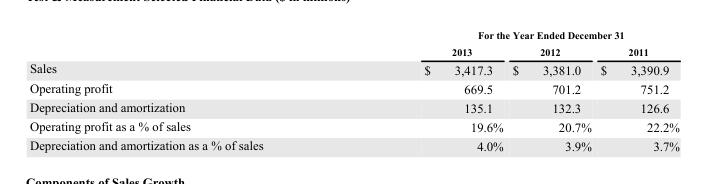table: (28, 29, 678, 152)
table column: (28, 29, 343, 152), (343, 29, 507, 152), (507, 29, 595, 152), (595, 29, 678, 152)
table column header: (28, 29, 678, 59)
table row: (28, 59, 678, 78), (28, 78, 678, 97), (28, 97, 678, 116), (28, 116, 678, 135), (28, 135, 678, 152), (28, 43, 678, 59), (28, 29, 678, 43)
table spanning cell: (343, 29, 678, 43)
